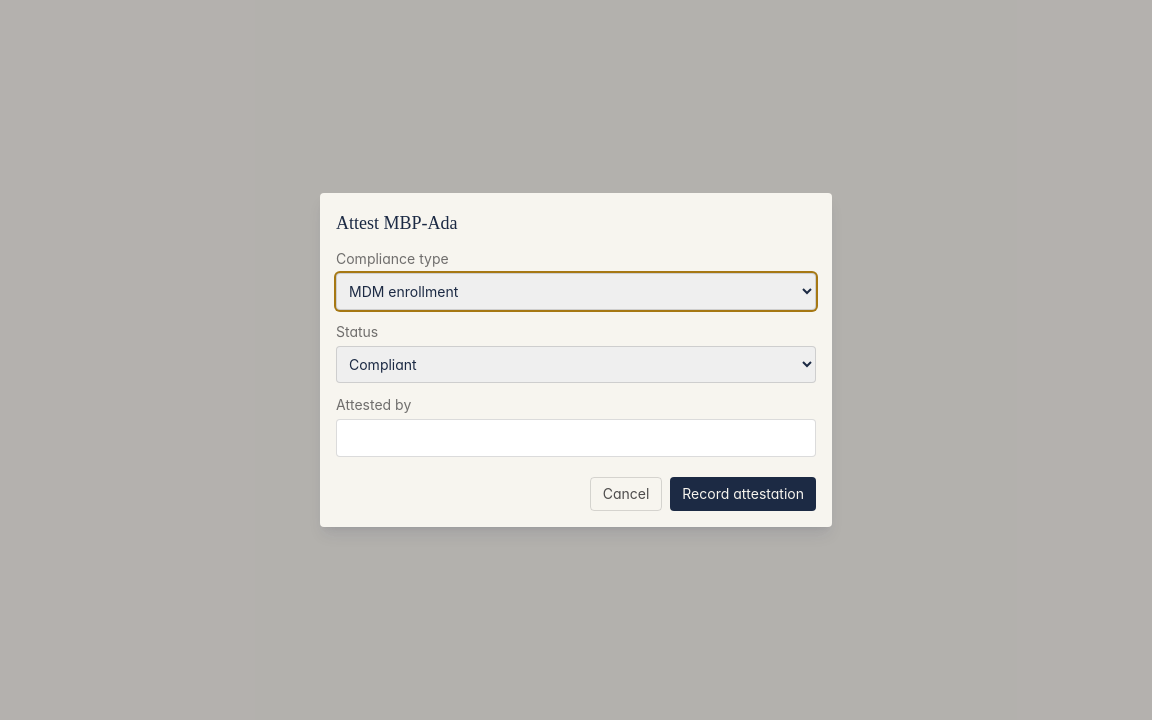
Test case: AttestDeviceModal (AC 5, AC 13) › surfaces validation error when attested_by is blank
Click the button with test id "attest-submit" at {"x": 743, "y": 494}, box [670,477,816,511]
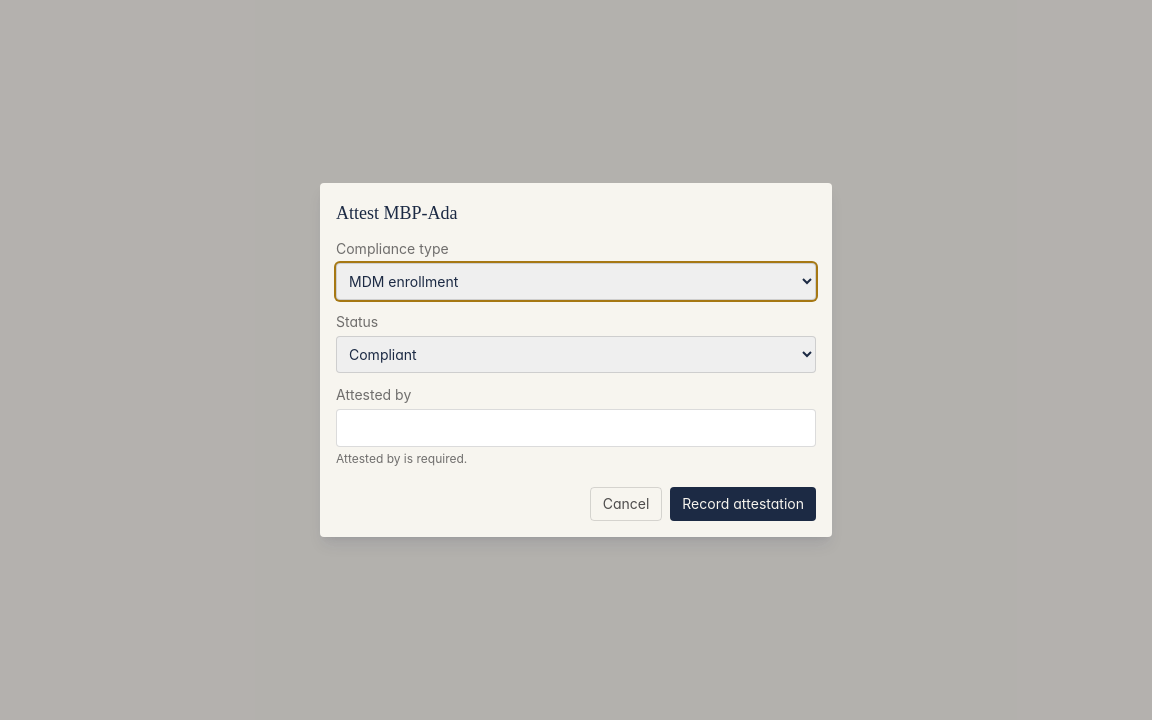
Expected: the text "Attested by is required." is shown, [336,451,467,466]
